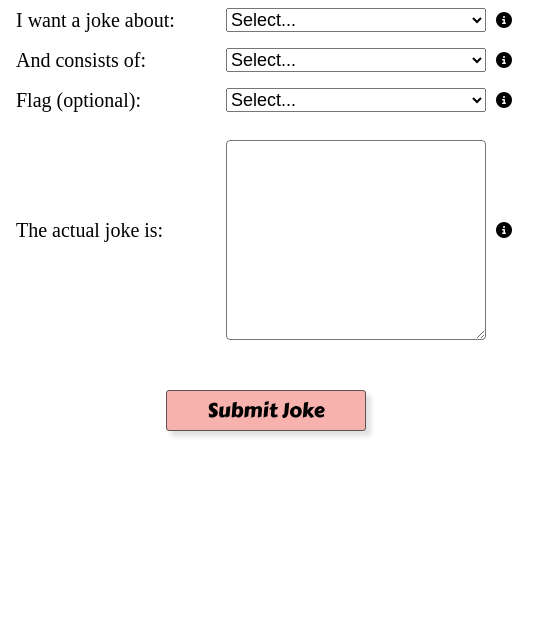
Test: 17. Bij inzenden van een grap is het verplicht om een categorie mee te geven
Click the button at x=266, y=411, box 166,390 -> 366,431
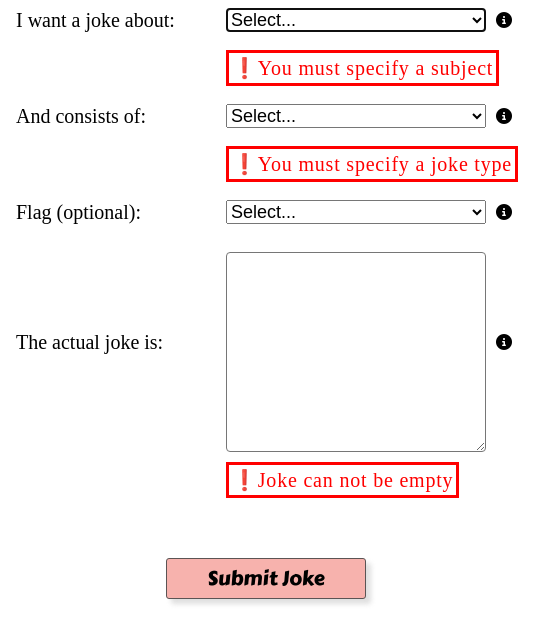
Now the text "You must specify a subject" is shown, box 226,50 -> 499,86
